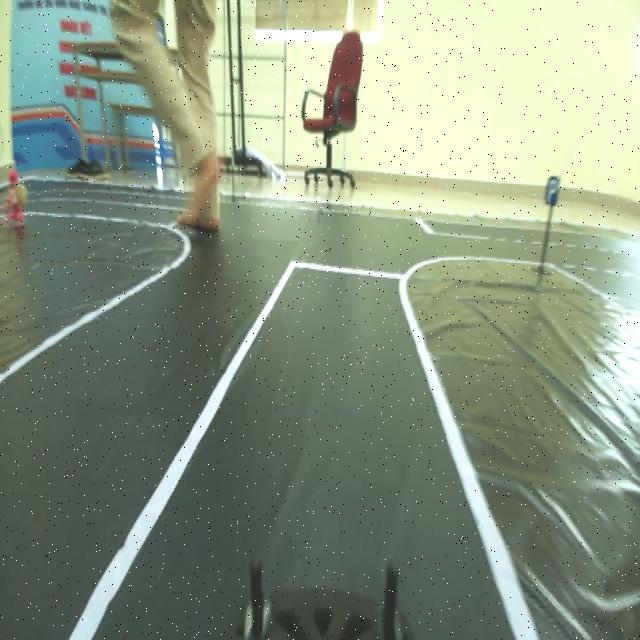parking: (538, 166, 564, 212)
